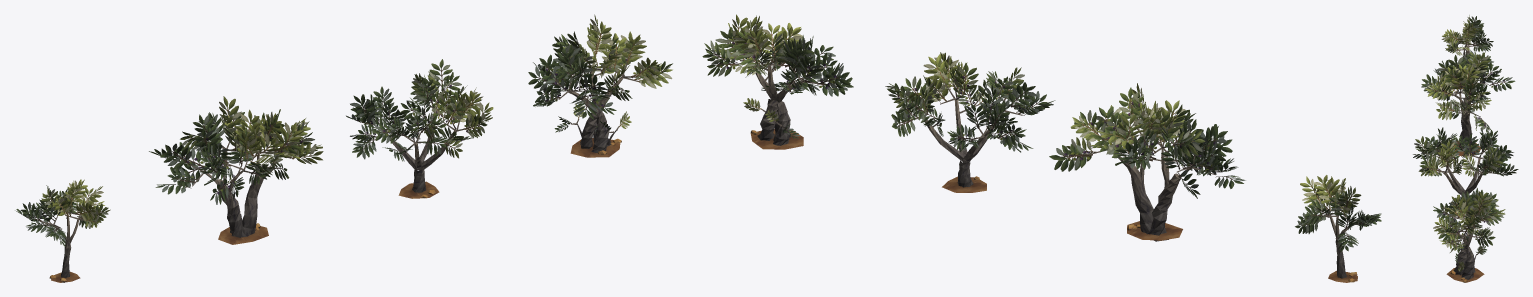
File: oliveiras.glb
3 views of the same model, side by side, from view 1: azimuth 30°, elevation 25°; view 2: azimuth 150°, elevation 25°; view 3: azimuth 270°, elevation 25° (orthographic). The views are drawn at different scales.
Parts seen in each view (by area): view 1: Oliveira2_Retorcida, Oliveira4_Ancia, Oliveira3_Vaso, Oliveira1_Jovem; view 2: Oliveira2_Retorcida, Oliveira3_Vaso, Oliveira4_Ancia, Oliveira1_Jovem; view 3: Oliveira2_Retorcida, Oliveira3_Vaso, Oliveira4_Ancia, Oliveira1_Jovem.
Part boxes in pixels (left/top/right/bottom): Oliveira2_Retorcida: left=149, top=96, right=323, bottom=244; Oliveira4_Ancia: left=528, top=14, right=672, bottom=157; Oliveira3_Vaso: left=346, top=59, right=493, bottom=198; Oliveira1_Jovem: left=15, top=179, right=110, bottom=282; Oliveira2_Retorcida: left=1049, top=83, right=1245, bottom=241; Oliveira3_Vaso: left=885, top=52, right=1055, bottom=192; Oliveira4_Ancia: left=702, top=14, right=853, bottom=149; Oliveira1_Jovem: left=1295, top=175, right=1381, bottom=282; Oliveira2_Retorcida: left=1421, top=49, right=1515, bottom=156; Oliveira3_Vaso: left=1413, top=127, right=1518, bottom=213; Oliveira4_Ancia: left=1433, top=188, right=1505, bottom=282; Oliveira1_Jovem: left=1441, top=15, right=1493, bottom=88.
Bounding box in the file's own units: 23.6 × 4.71 × 4.7.
2 materials, 2 textured.
